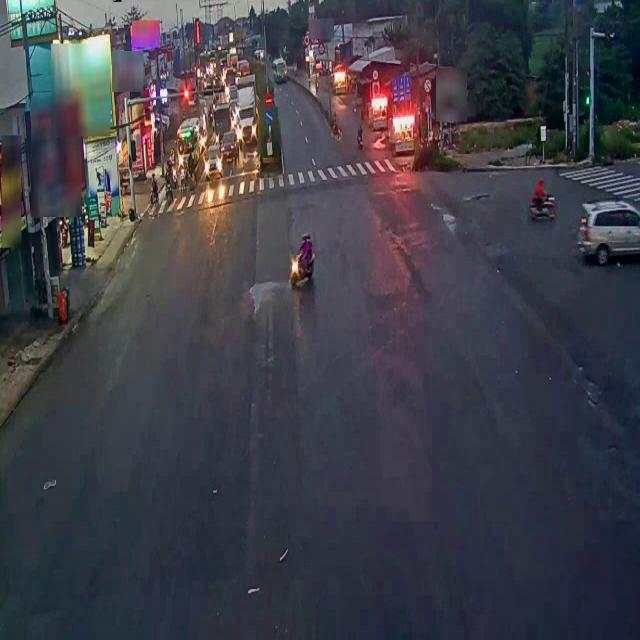motorcycle: (289, 231, 315, 289)
